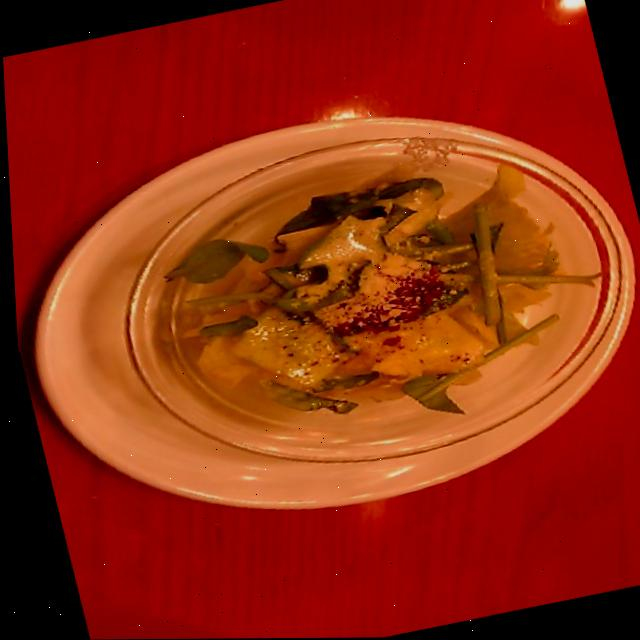蔬菜料理: (80, 84, 640, 506)
